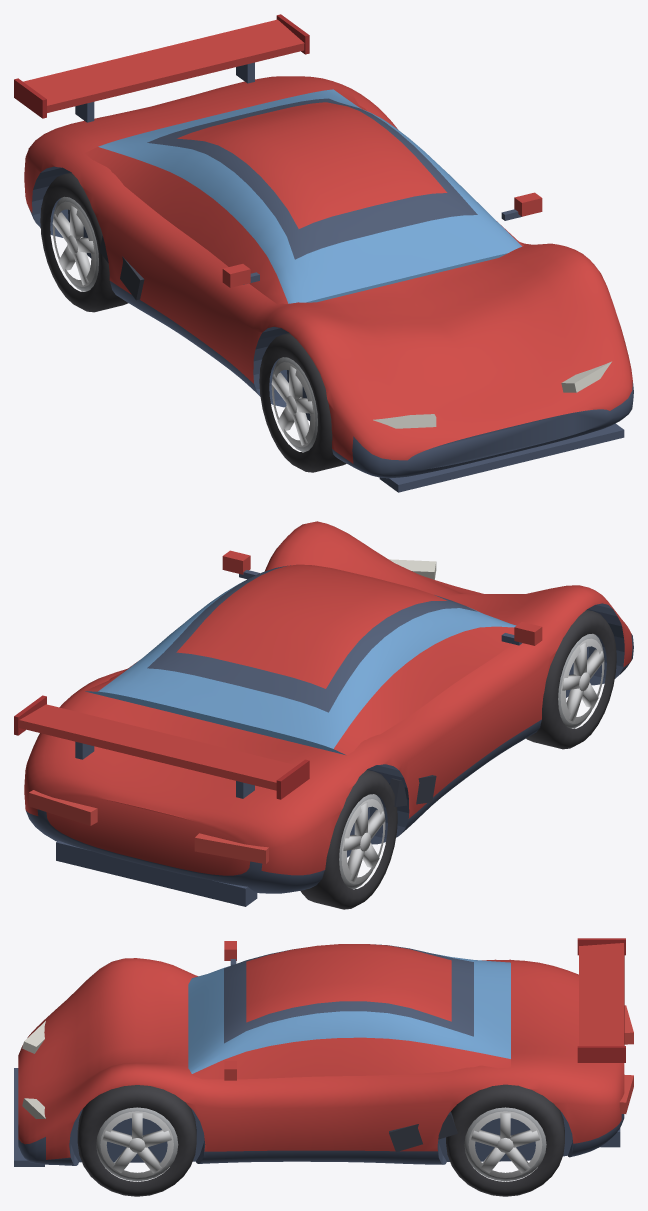
The model's file is supercar.glb.
3 views of the same model, one above another, from view 1: azimuth 30°, elevation 25°; view 2: azimuth 150°, elevation 25°; view 3: azimuth 270°, elevation 25° (orthographic). The views are drawn at different scales.
Parts seen in each view (by area): view 1: body, wheel_fr, wheel_rr; view 2: body, wheel_fr, wheel_rr; view 3: body, wheel_fl, wheel_rl.
Part boxes in pixels (x1,y1,x2,y2): body: (14,14,633,492); wheel_fr: (259,333,346,472); wheel_rr: (40,172,128,312); body: (14,521,633,906); wheel_fr: (526,609,616,749); wheel_rr: (300,770,397,909); body: (14,938,633,1166); wheel_fl: (77,1085,196,1196); wheel_rl: (446,1084,564,1196).
Size of the model in its own units: 2.14 by 1.35 by 4.38.
